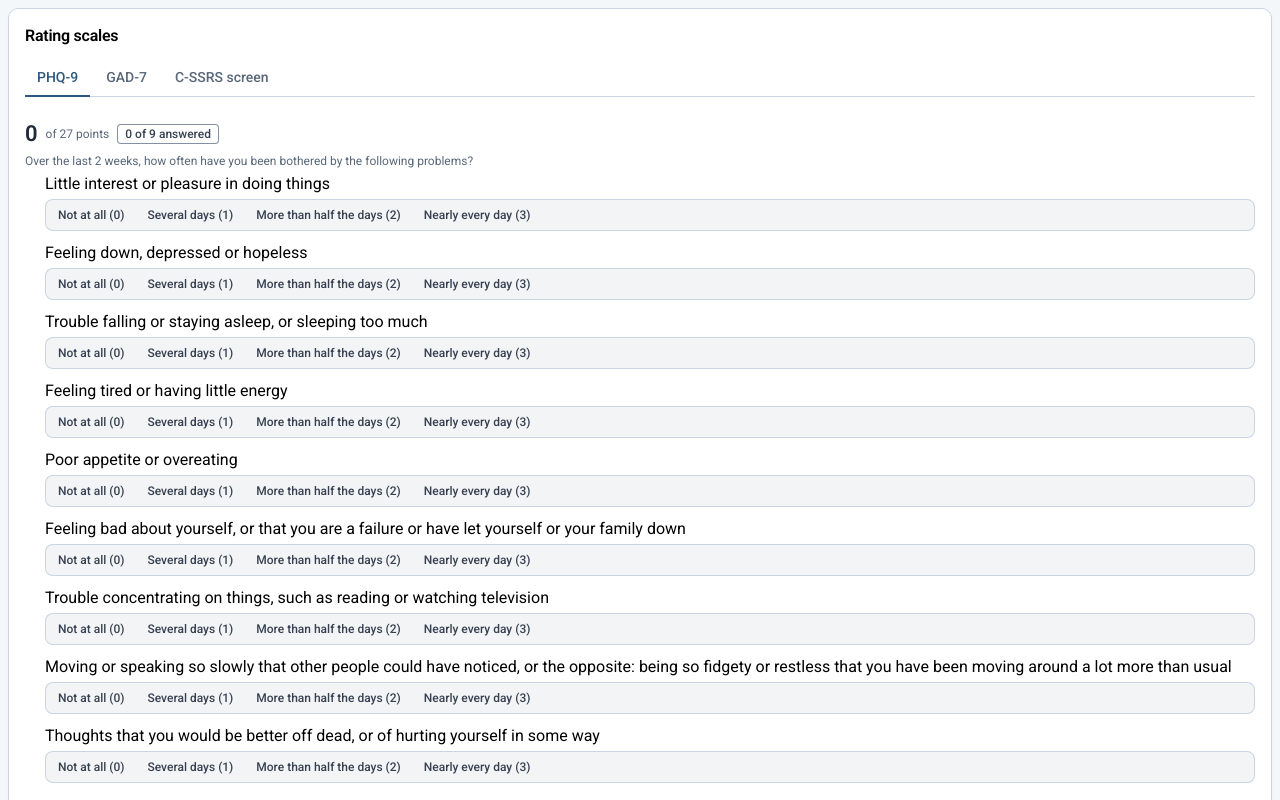
PsychRatingScales › switches tabs and scores the GAD-7
Click the tab "GAD-7" at [127, 78], box [94,59,159,97]
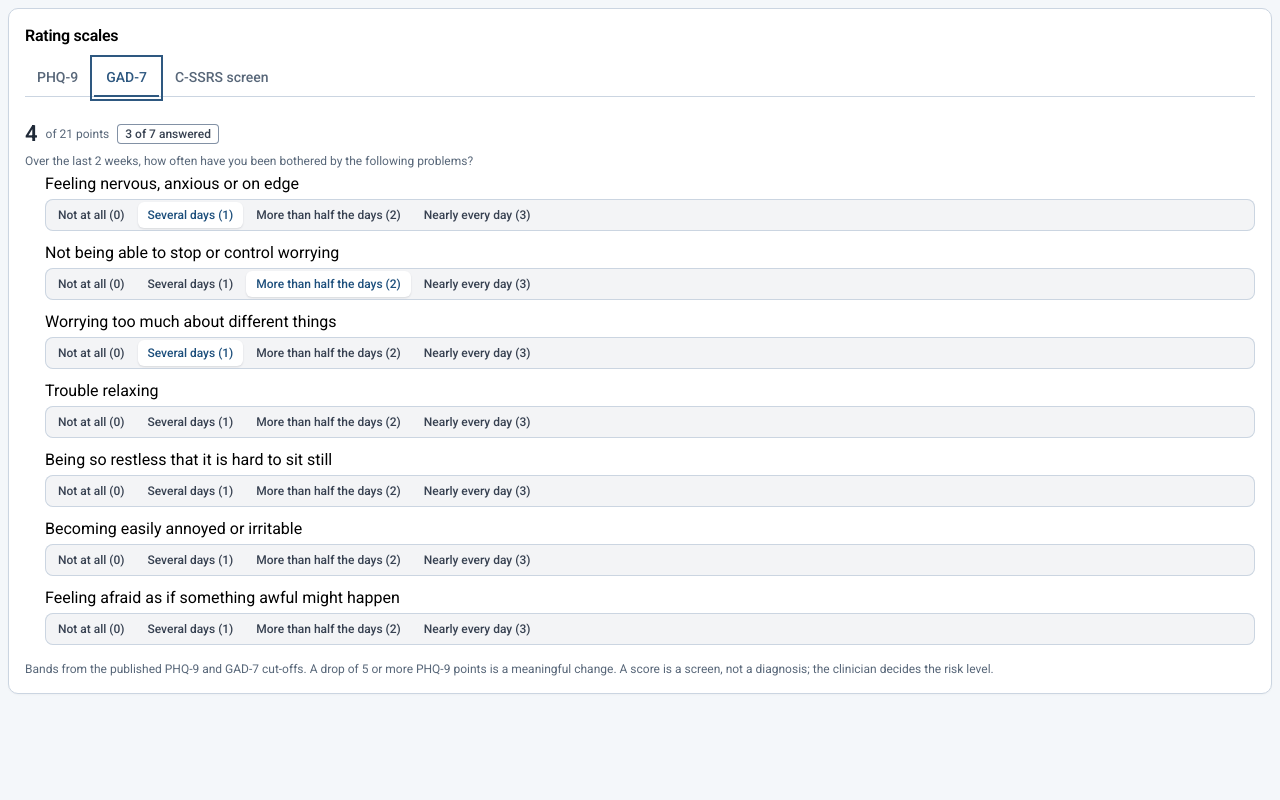
Expected: the element named "Feeling nervous, anxious or on edge" is shown, [45,199,1255,231]
Expected: the element named "Not being able to stop or control worrying" is shown, [45,268,1255,300]
Expected: the element named "Worrying too much about different things" is shown, [45,337,1255,369]
